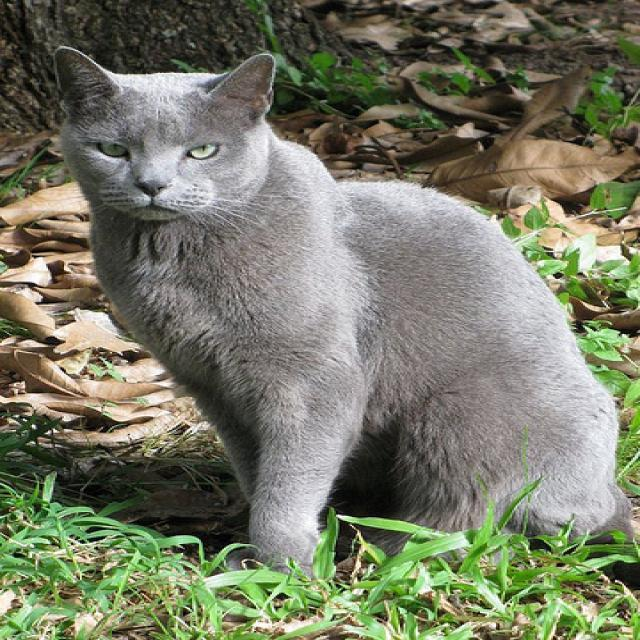Russian_Blue: (45, 43, 291, 223)
